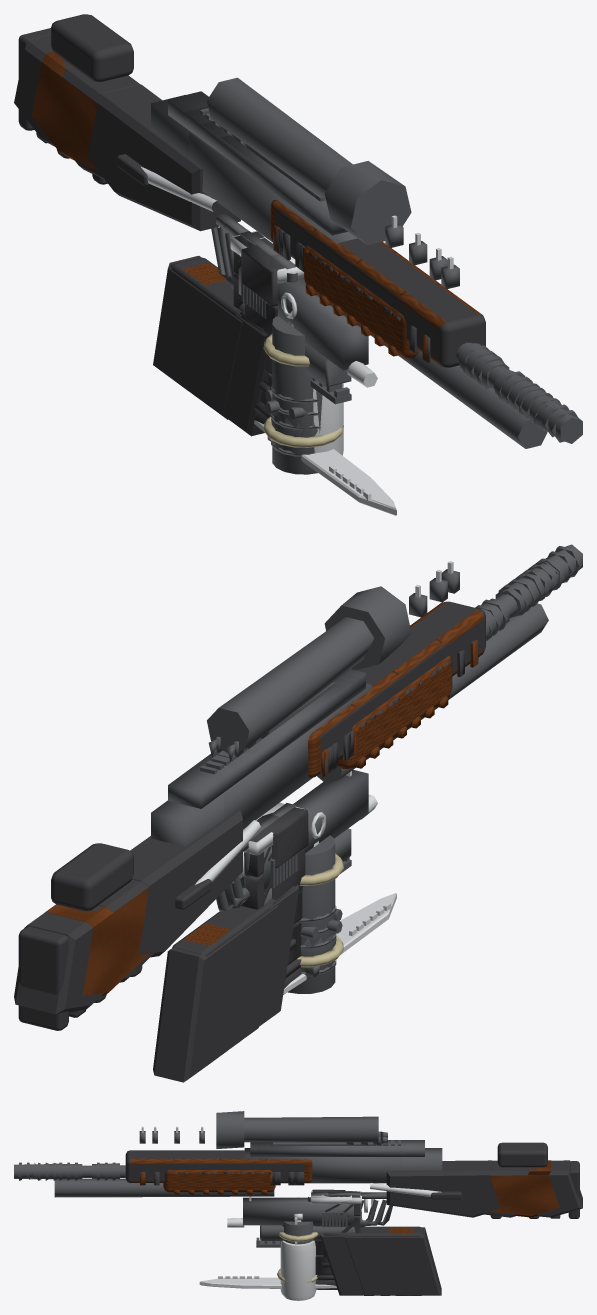
The model's file is weapons3p.glb.
3 views of the same model, one above another, from view 1: azimuth 30°, elevation 25°; view 2: azimuth 150°, elevation 25°; view 3: azimuth 270°, elevation 25° (orthographic). The views are drawn at different scales.
Visible parts, largest first — view 1: marksman-rifle, defender-carbine, pump-shotgun, full-smg, attacker-assault-rifle, smoke-grenade, service-pistol, pump, slide, magazine/black (×2), combat-knife, flash-grenade (+1 smaller); view 2: marksman-rifle, defender-carbine, pump-shotgun, attacker-assault-rifle, full-smg, smoke-grenade, pump, magazine/black (×3), slide, service-pistol, combat-knife, fragmentation-grenade; view 3: marksman-rifle, defender-carbine, pump-shotgun, attacker-assault-rifle, full-smg, slide, service-pistol, pump, flash-grenade, magazine/black (×3), combat-knife, smoke-grenade.
Boxes of the visible parts, box(x1,y1,x2,y2) form: marksman-rifle: box(14, 14, 582, 443); defender-carbine: box(87, 80, 509, 405); pump-shotgun: box(31, 51, 560, 448); full-smg: box(116, 135, 403, 419); attacker-assault-rifle: box(56, 61, 539, 414); smoke-grenade: box(263, 292, 343, 474); service-pistol: box(224, 297, 377, 436); pump: box(304, 245, 419, 358); slide: box(238, 255, 368, 370); magazine/black (×2): box(241, 245, 285, 418); combat-knife: box(254, 412, 396, 515); flash-grenade: box(265, 383, 343, 455); marksman-rifle: box(14, 544, 582, 1082); defender-carbine: box(126, 585, 509, 1056); pump-shotgun: box(45, 559, 564, 1060); attacker-assault-rifle: box(92, 569, 543, 1060); full-smg: box(175, 663, 422, 1038); smoke-grenade: box(288, 812, 343, 993); pump: box(338, 656, 452, 768); magazine/black (×3): box(241, 807, 308, 978); slide: box(262, 770, 368, 889); service-pistol: box(259, 771, 377, 1026); combat-knife: box(283, 893, 396, 994); fragmentation-grenade: box(299, 905, 336, 976); marksman-rifle: box(14, 1111, 582, 1295); defender-carbine: box(92, 1126, 501, 1295); pump-shotgun: box(32, 1126, 560, 1295); attacker-assault-rifle: box(56, 1126, 538, 1295); full-smg: box(196, 1126, 461, 1295); slide: box(243, 1197, 353, 1227); service-pistol: box(227, 1196, 364, 1295); pump: box(163, 1170, 275, 1194); flash-grenade: box(280, 1240, 316, 1300); magazine/black (×3): box(312, 1189, 360, 1280); combat-knife: box(199, 1276, 337, 1289); smoke-grenade: box(277, 1197, 318, 1282).
Size of the model in its own units: 0.078 by 0.3531 by 1.02.
Materials: 5 (1 with a texture image).
